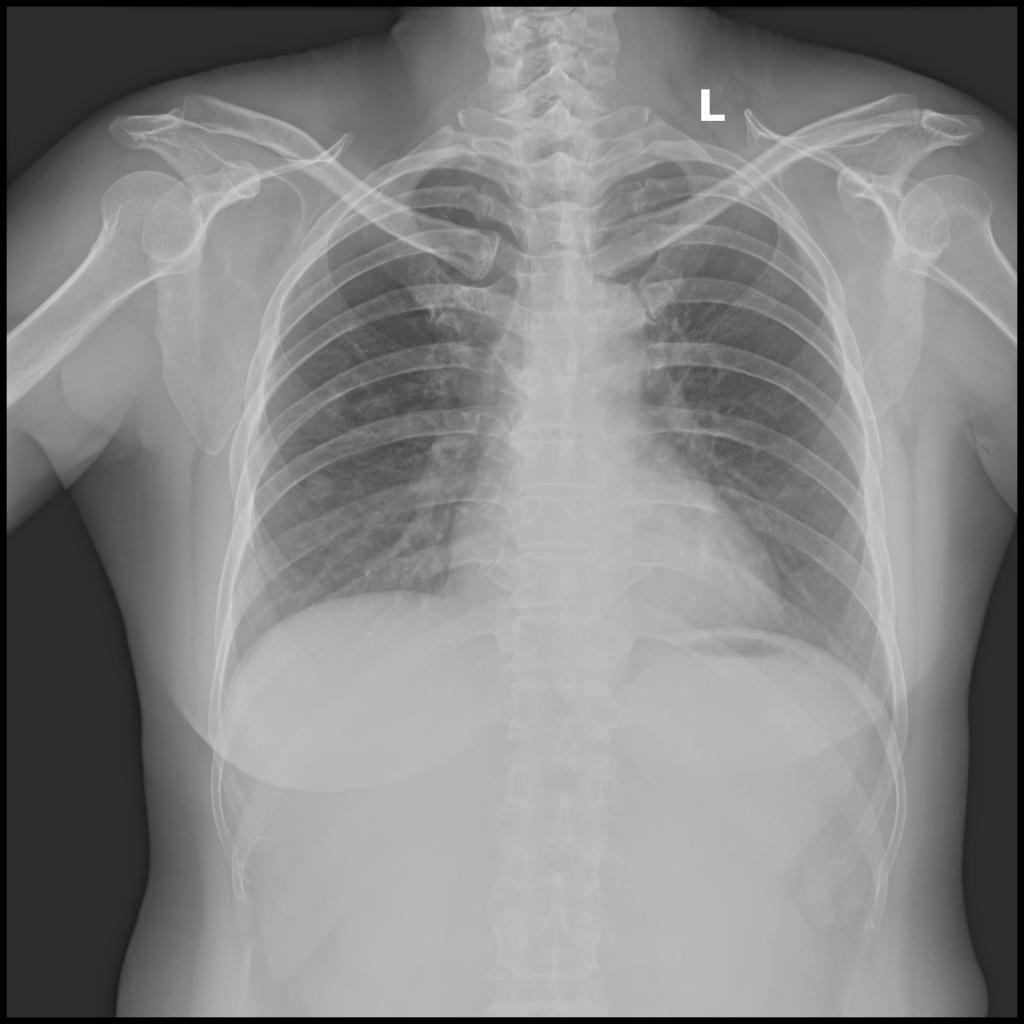Nodule: (302, 476, 333, 505), (325, 351, 352, 374)
